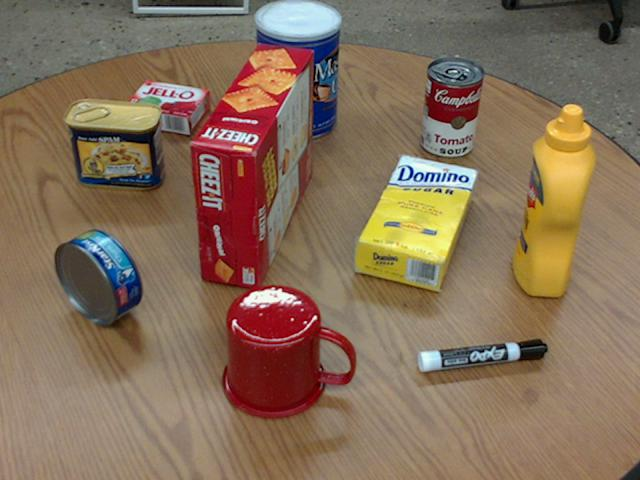cracker_box: (190, 43, 311, 288)
gelatin_box: (121, 79, 207, 131)
large_marker: (418, 339, 546, 372)
master_chef_can: (254, 0, 339, 138)
mug: (222, 284, 353, 418)
mustard_bottle: (513, 106, 594, 296)
potted_meat_can: (64, 97, 163, 187)
sugar_box: (354, 156, 477, 288)
tomato_soup_can: (420, 57, 483, 157)
tuna_fish_can: (55, 230, 143, 324)
